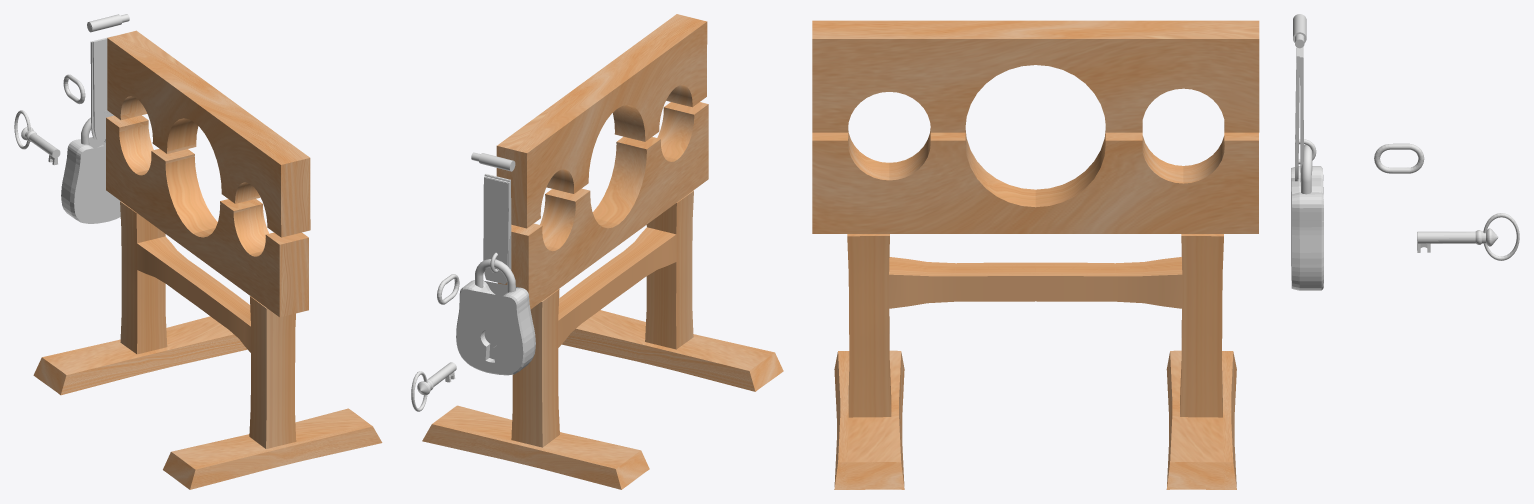
The model's file is jalkapuu5.fbx.
The picture shows the model from 3 angles, left to right: view 1: azimuth 30°, elevation 25°; view 2: azimuth 150°, elevation 25°; view 3: azimuth 270°, elevation 25°; orthographic projection. The views are drawn at different scales.
Visible parts, largest first — view 1: Cube, Cube.004, Cube.002, Circle.004, Cube.003, Cylinder.003; view 2: Cube, Cube.004, Cube.002, Circle.004, Cube.005, Circle.003, Cylinder.003, Cylinder; view 3: Cube, Cube.004, Cube.002, Circle.004, Cylinder.003, Circle.001.
Part boxes in pixels (box(x1,y1,x2,y2)): Cube: box(33, 201, 382, 489); Cube.004: box(107, 30, 310, 237); Cube.002: box(106, 115, 308, 317); Circle.004: box(61, 137, 120, 223); Cube.003: box(92, 38, 113, 140); Cylinder.003: box(21, 127, 60, 165); Cube: box(422, 190, 783, 489); Cube.004: box(496, 14, 707, 228); Cube.002: box(498, 102, 708, 309); Circle.004: box(456, 280, 535, 375); Cube.005: box(483, 176, 510, 284); Circle.003: box(475, 259, 515, 292); Cylinder.003: box(417, 362, 456, 395); Cylinder: box(479, 153, 515, 171); Cube: box(834, 234, 1236, 489); Cube.004: box(812, 20, 1259, 132); Cube.002: box(812, 128, 1258, 233); Circle.004: box(1291, 166, 1323, 290); Cylinder.003: box(1417, 228, 1498, 252); Circle.001: box(1374, 143, 1424, 173).
Bounding box in the file's own units: 407 × 637 × 1006.
